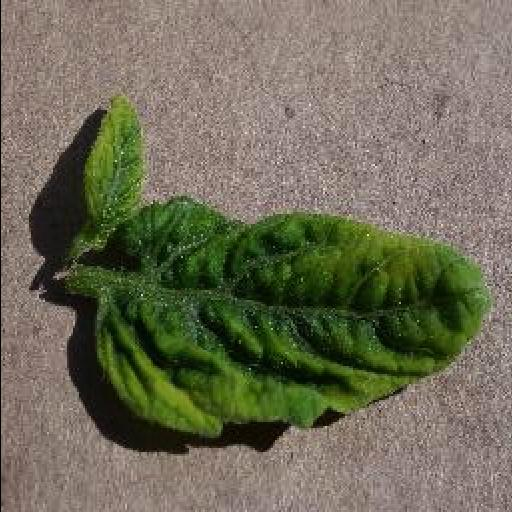disease_tomato: (92, 200, 496, 436), (82, 93, 146, 235)
